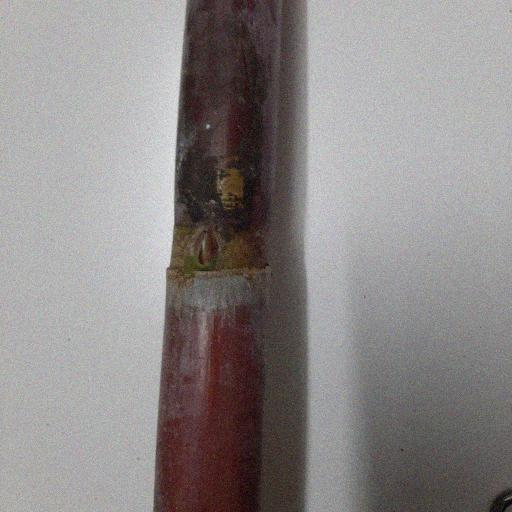Bud: (189, 228, 219, 270)
